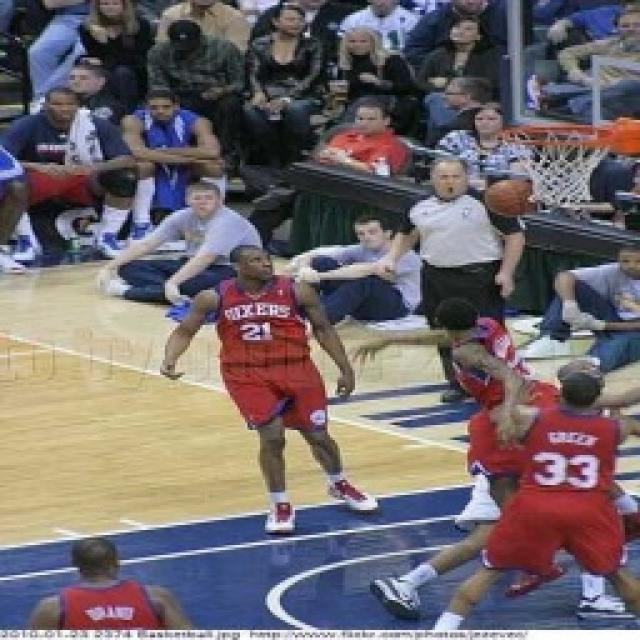rim: (484, 173, 540, 223)
